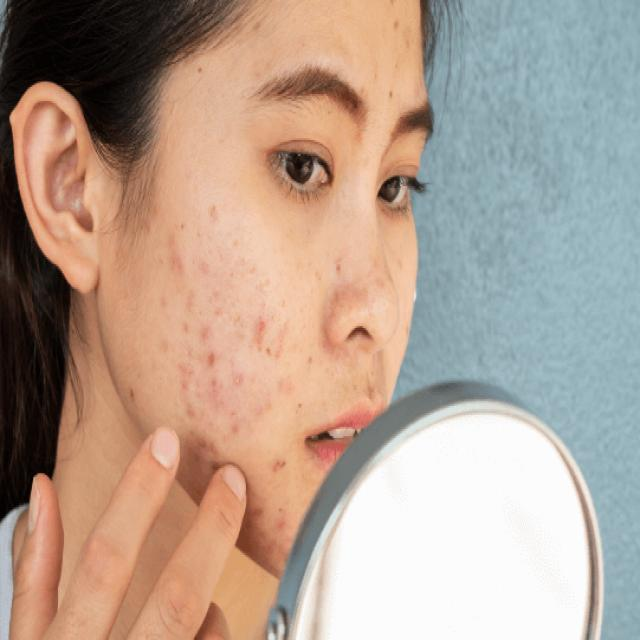acne: (161, 190, 302, 578), (316, 258, 346, 289)
